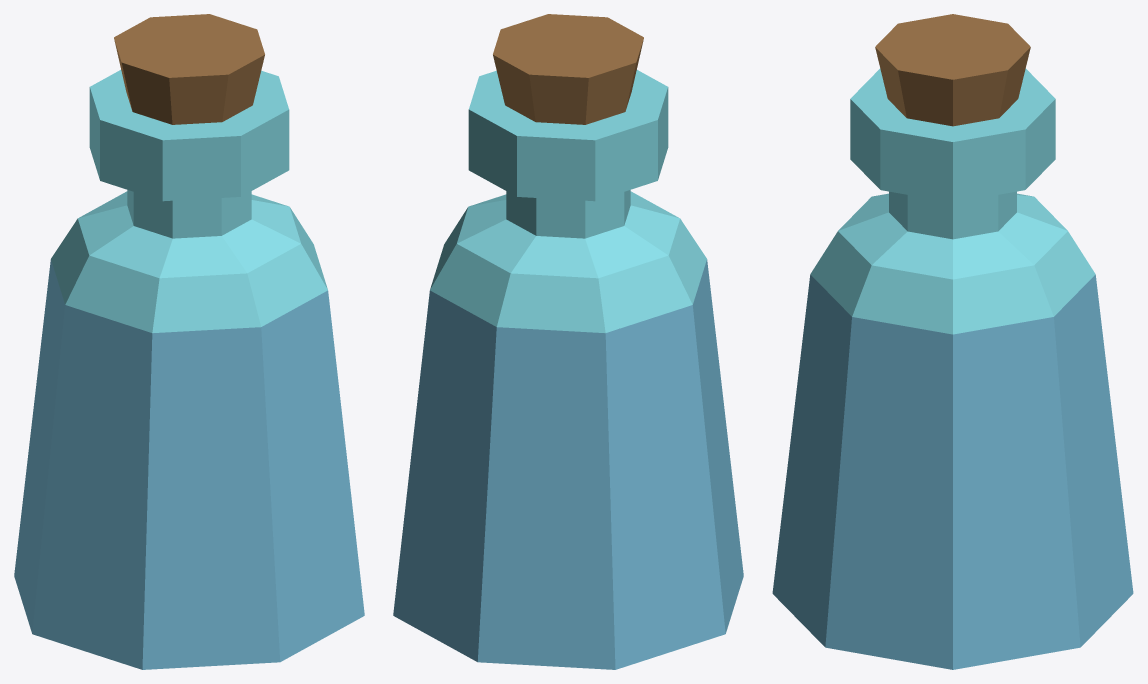
The model's file is FogPotion.fbx.
The picture shows the model from 3 angles, left to right: view 1: azimuth 30°, elevation 25°; view 2: azimuth 150°, elevation 25°; view 3: azimuth 270°, elevation 25°; orthographic projection.
Parts seen in each view (by area): view 1: Potion3; view 2: Potion3; view 3: Potion3.
Boxes of the visible parts, x1,y1,x2,y2 form: Potion3: (14,14,364,669); Potion3: (393,14,743,669); Potion3: (772,14,1133,669).
Size of the model in its own units: 174 by 291 by 174.
